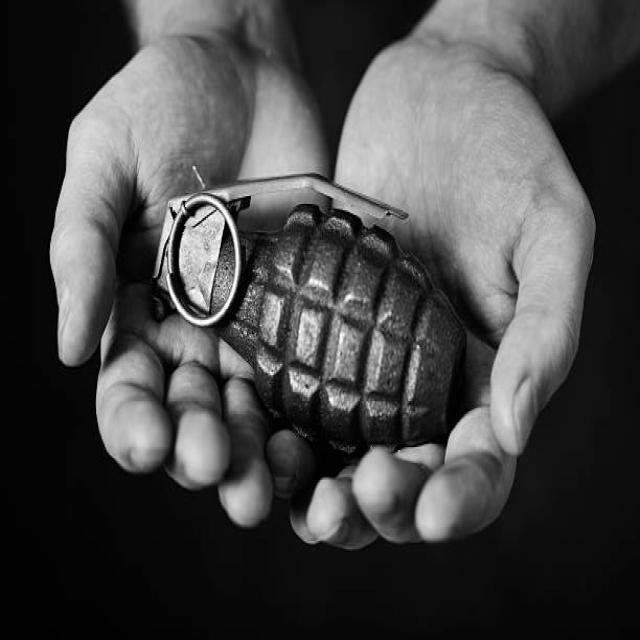grenade: (143, 162, 474, 456)
